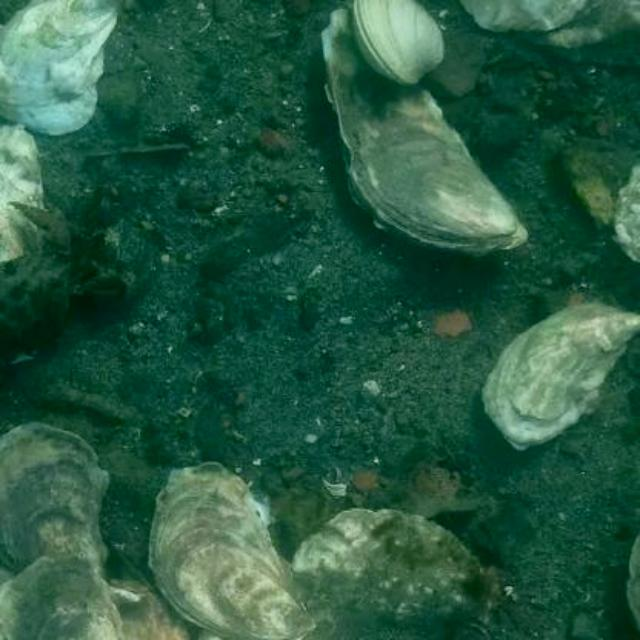Oyster-Closed: (322, 10, 529, 259), (149, 460, 316, 638), (292, 507, 497, 638), (482, 303, 638, 449), (0, 423, 113, 576), (0, 0, 118, 134), (0, 555, 124, 638), (0, 124, 44, 261), (530, 0, 638, 51), (462, 0, 589, 32), (553, 31, 638, 67), (626, 536, 638, 628)
